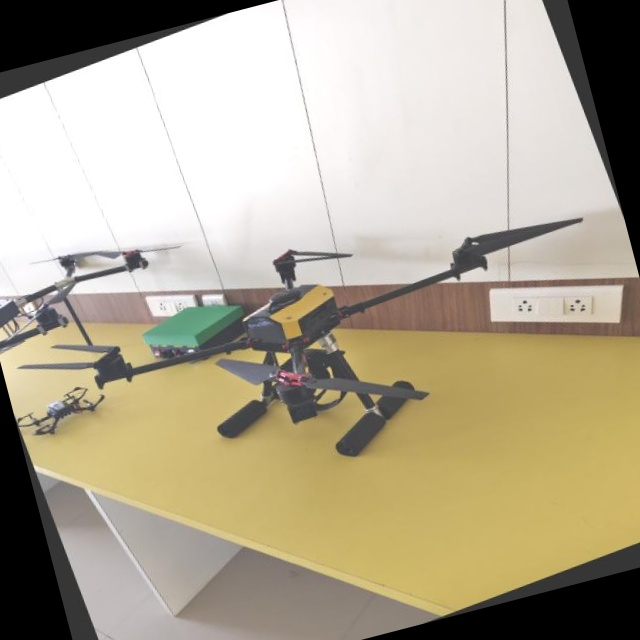quadcopter: (0, 123, 640, 563)
